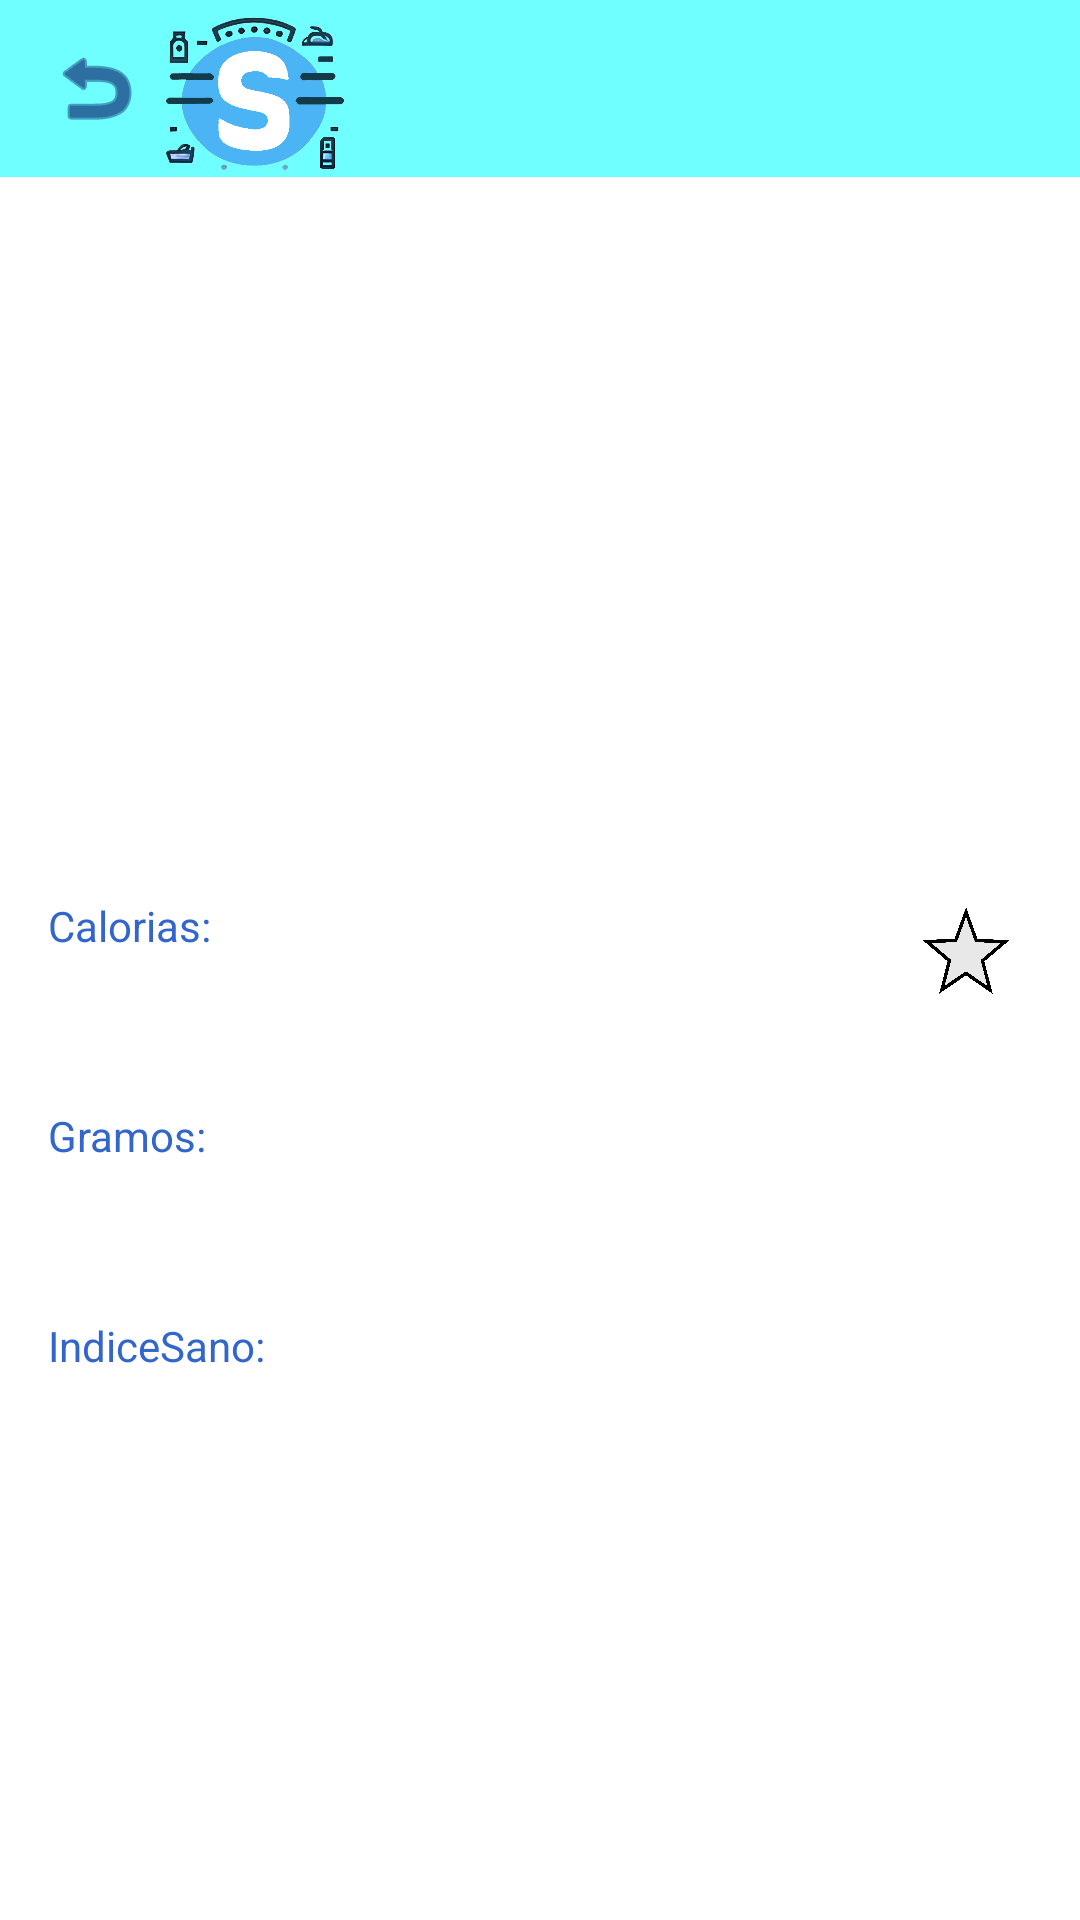

Icons on this 1080px x 1920px Android screen, each with its box as (x1, y1, x2, y2):
revert: (63, 57, 132, 120)
star blank: (923, 908, 1009, 994)
